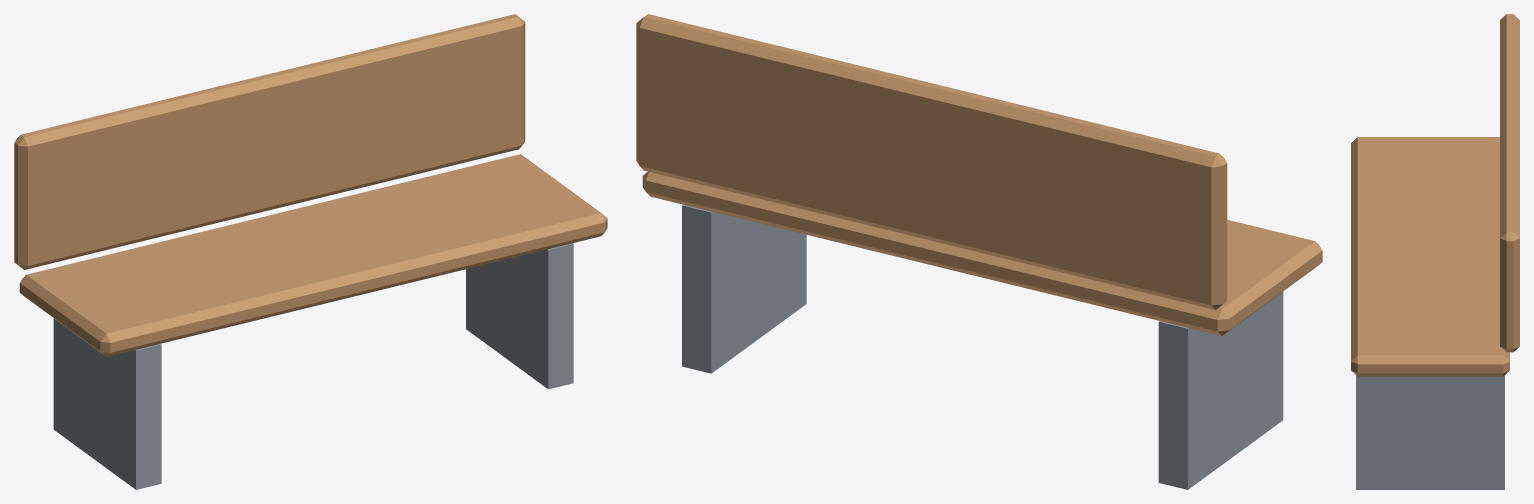
The model's file is bench.fbx.
3 views of the same model, side by side, from view 1: azimuth 30°, elevation 25°; view 2: azimuth 150°, elevation 25°; view 3: azimuth 270°, elevation 25° (orthographic). The views are drawn at different scales.
Visible parts, largest first — view 1: bench; view 2: bench; view 3: bench.
Part boxes in pixels (left/top/right/bottom): bench: left=14, top=14, right=607, bottom=489; bench: left=636, top=14, right=1322, bottom=489; bench: left=1351, top=14, right=1519, bottom=489.
Size of the model in its own units: 1.6 by 0.9 by 0.51.
